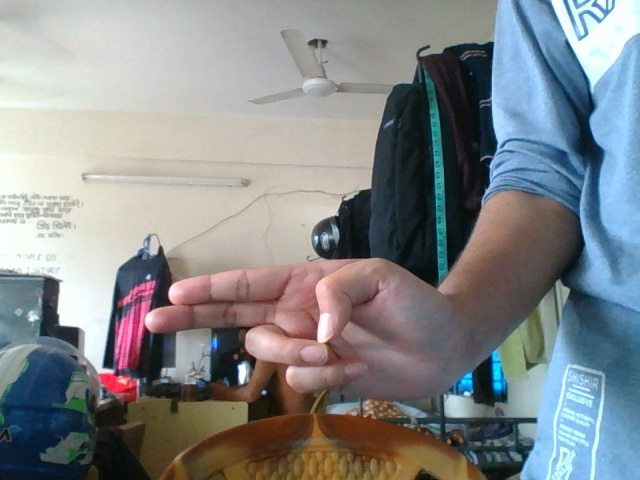ha: (132, 249, 522, 401)
